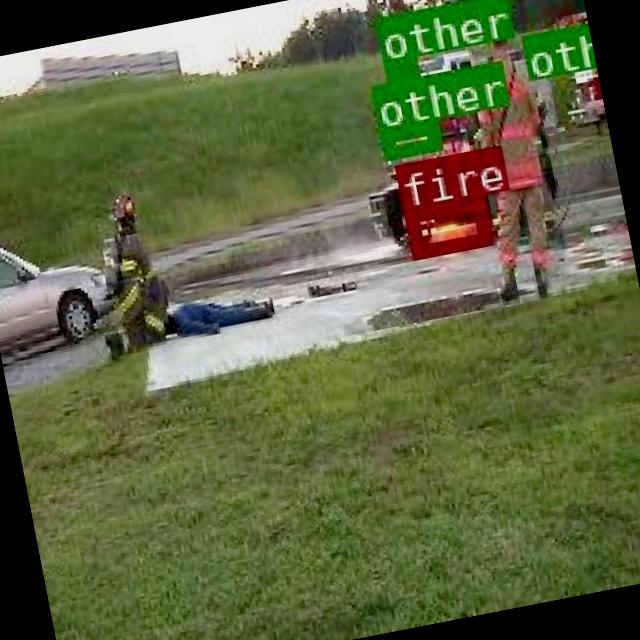fire: (402, 194, 488, 256)
